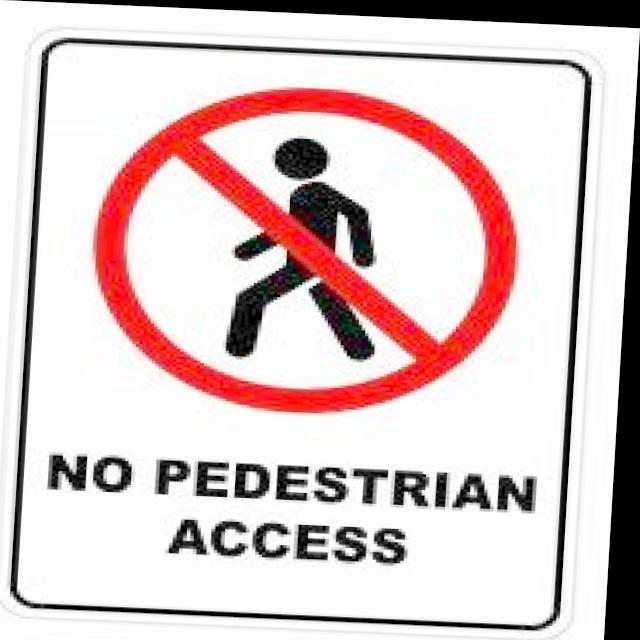PEDESTRIAN_PROHIBITED: (87, 81, 533, 417)
